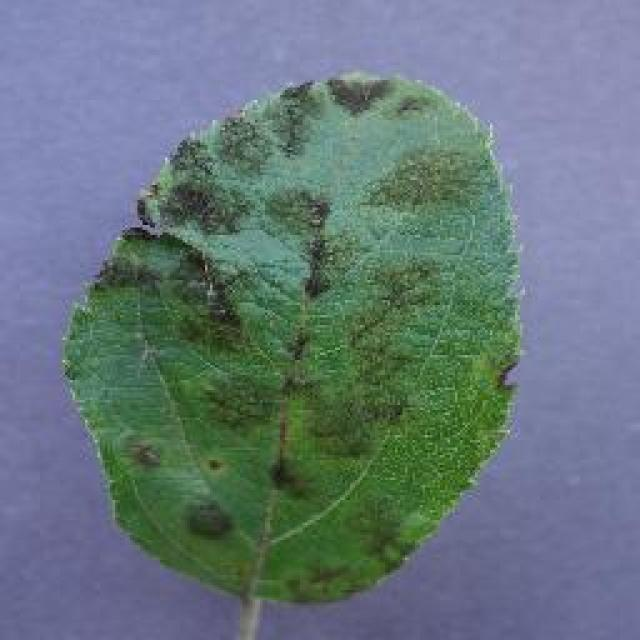apple scab disease: (60, 68, 525, 610)
